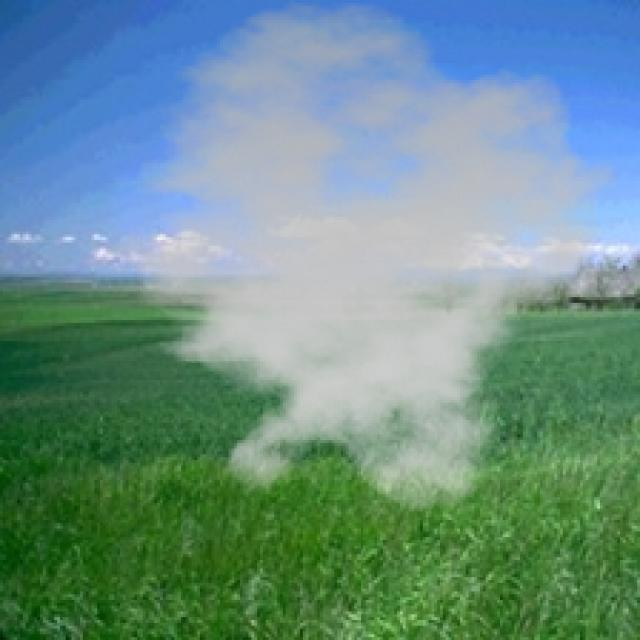Smoke: (77, 0, 632, 515)
